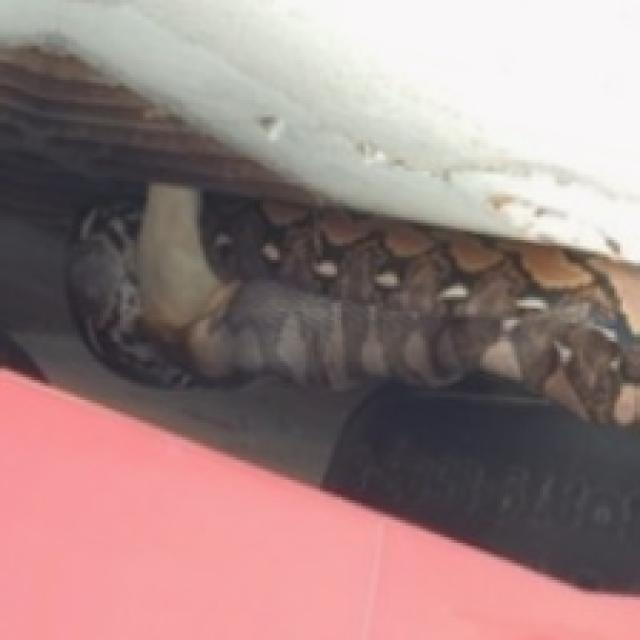reticulated python: (0, 0, 637, 591), (69, 183, 637, 423)
